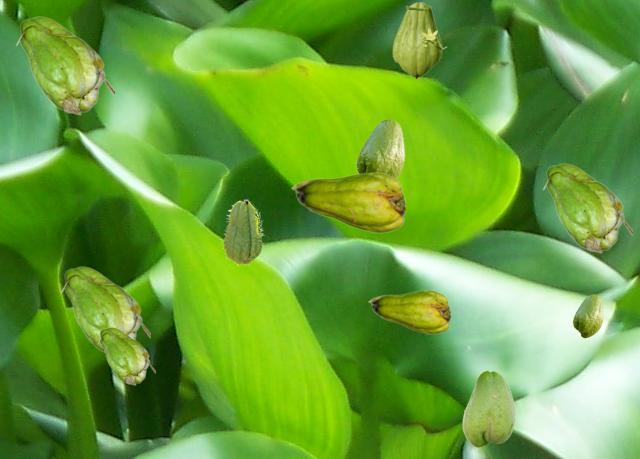sayote: (15, 16, 113, 114), (542, 163, 631, 252), (60, 266, 149, 352), (291, 172, 404, 232), (392, 2, 446, 78), (462, 370, 514, 446), (368, 290, 449, 333), (97, 327, 154, 384), (355, 119, 404, 178), (222, 199, 263, 265), (572, 294, 602, 337)
